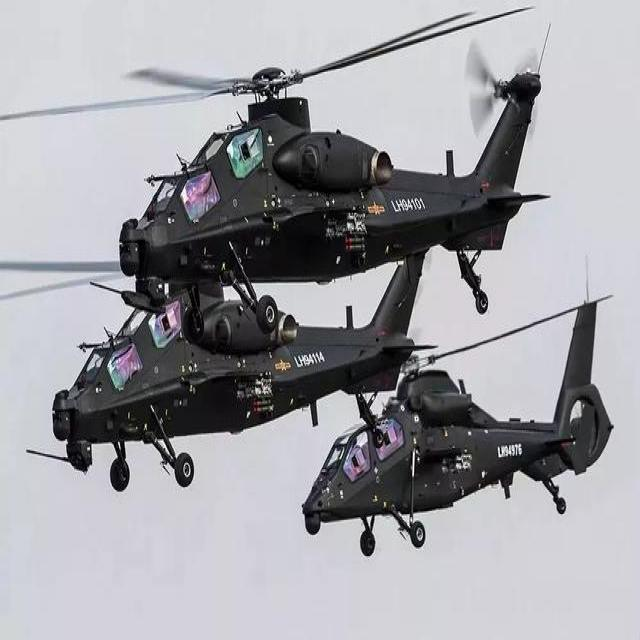MIL_HELO: (0, 0, 558, 322), (0, 238, 439, 515), (257, 291, 640, 558)
